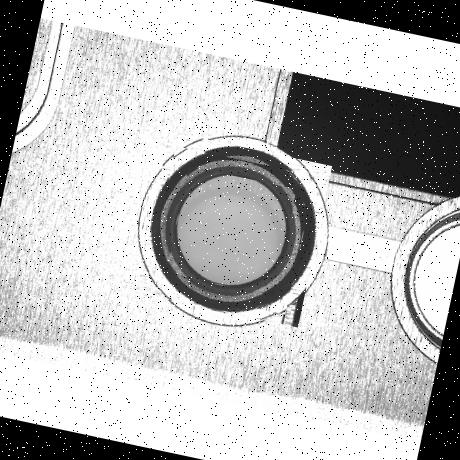Hole: (135, 132, 331, 328)
Hole2: (146, 146, 314, 314)
Hole3: (155, 154, 307, 306)
Hole4: (166, 166, 296, 296)
